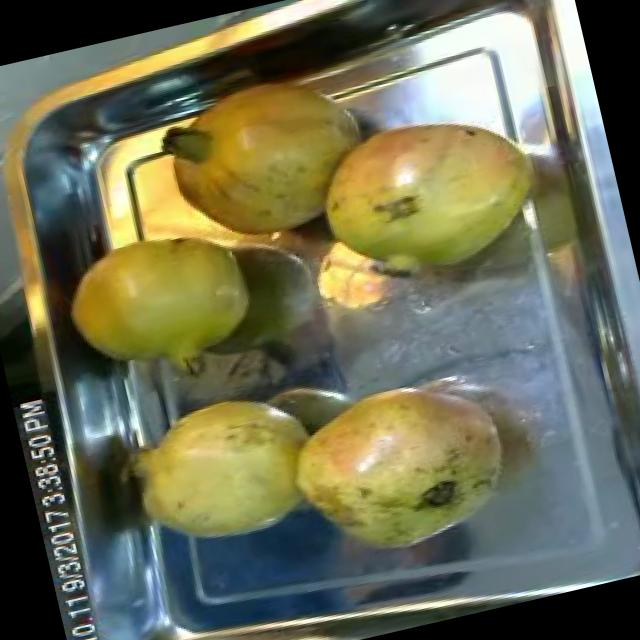fruit: (260, 350, 542, 587), (282, 78, 566, 308), (134, 42, 394, 274), (46, 202, 282, 408), (98, 370, 334, 568)
